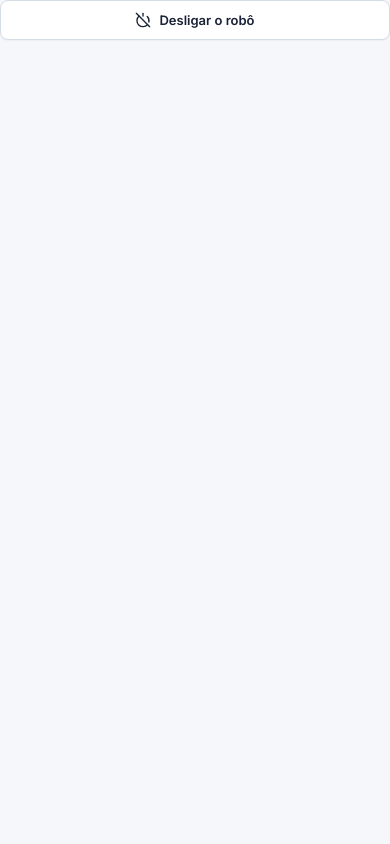
Test: LigarDesligarRobo — desligar › pede confirmação antes de gravar, e diz que lance aceito não é cancelado
Click the button "Desligar o robô".
click(195, 20)  # box [0,0,389,40]
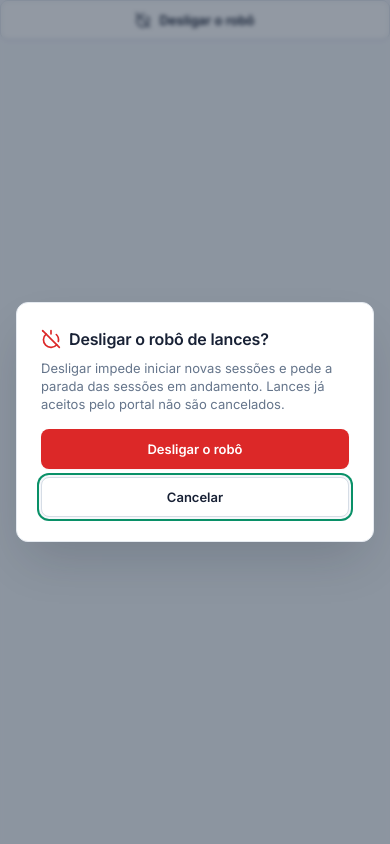
Now the text "Lances já aceitos pelo portal não são cancelados" is shown, box [41,360,332,412]
